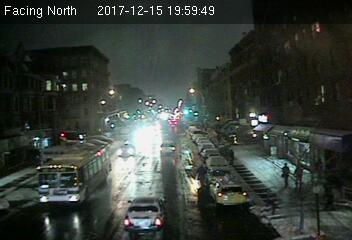bus: (36, 145, 113, 205)
car: (121, 198, 168, 235), (212, 177, 250, 208), (115, 142, 137, 156), (159, 141, 177, 155)
pedestrian: (279, 161, 293, 186)
